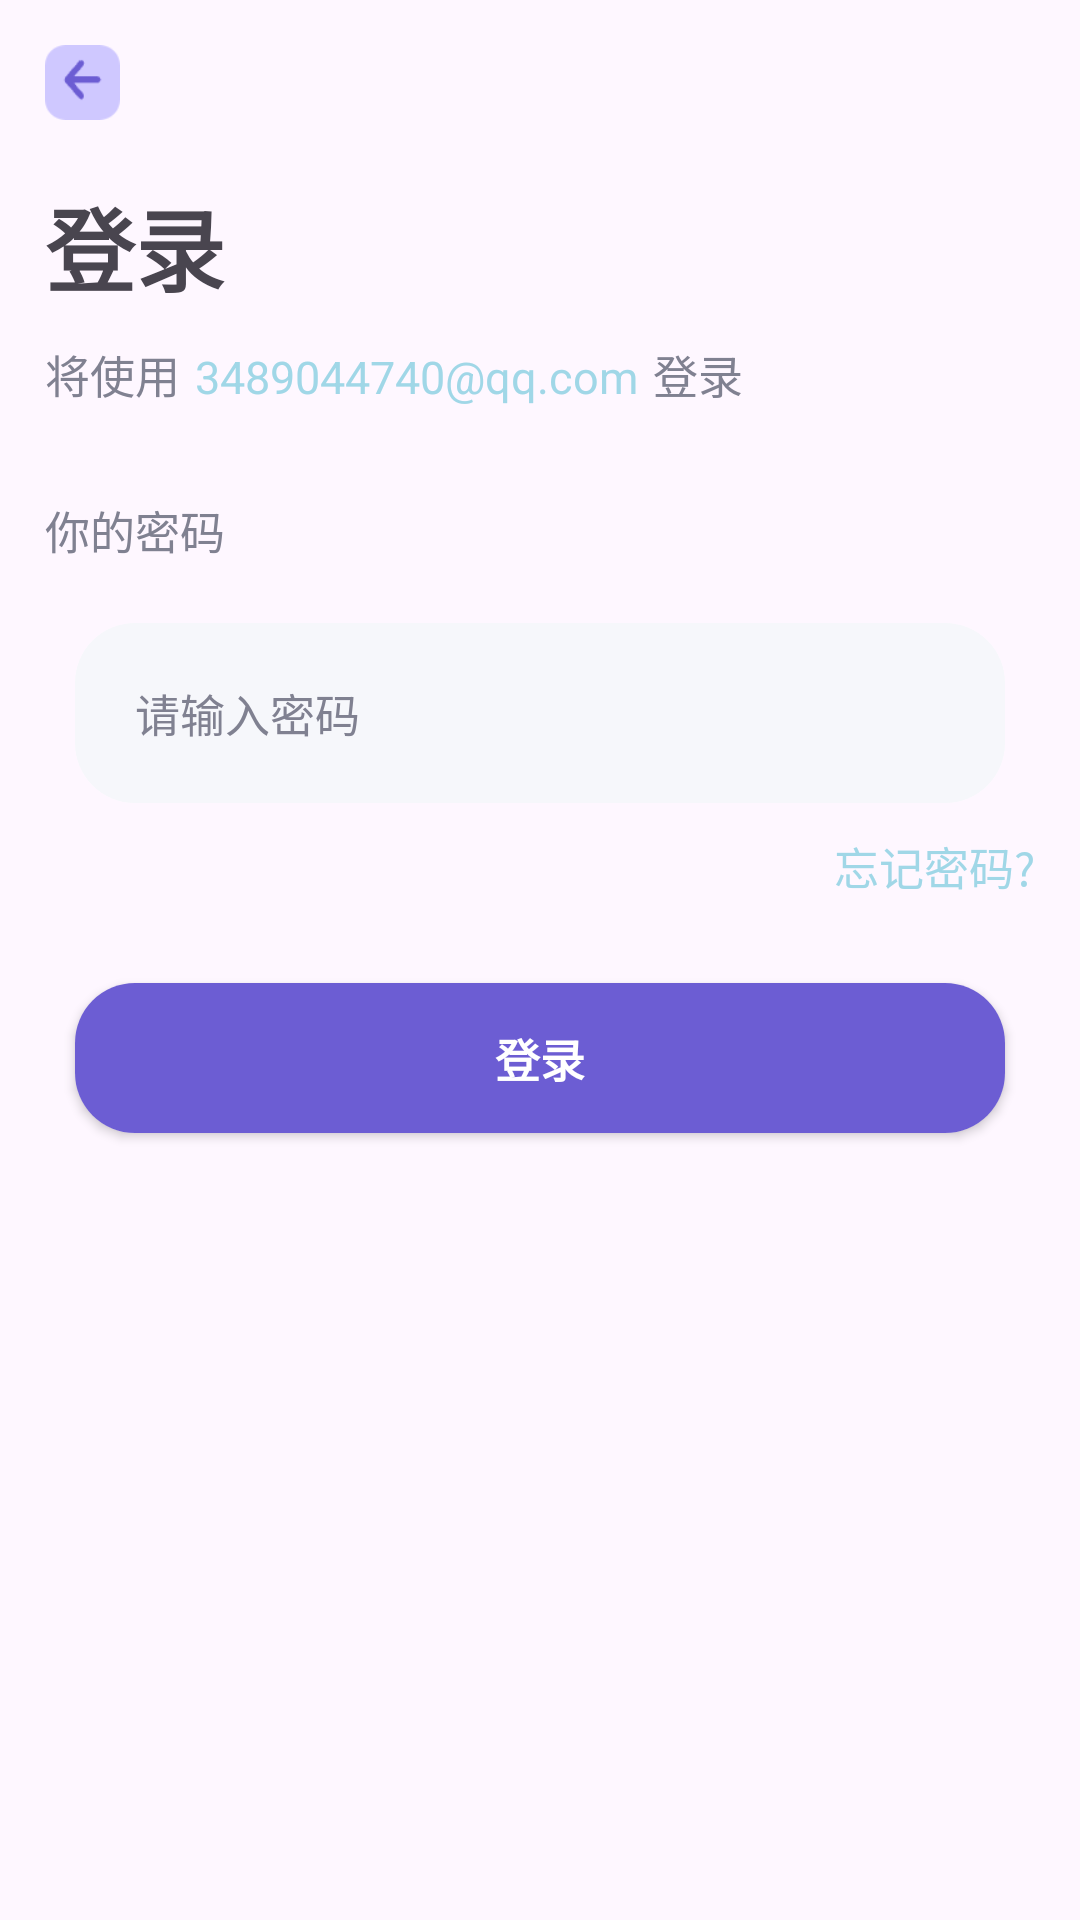

Icons on this 1080 x 1920 Android screen, each with its box as (x1, y1, x2, y2):
back: (45, 45, 120, 120)
